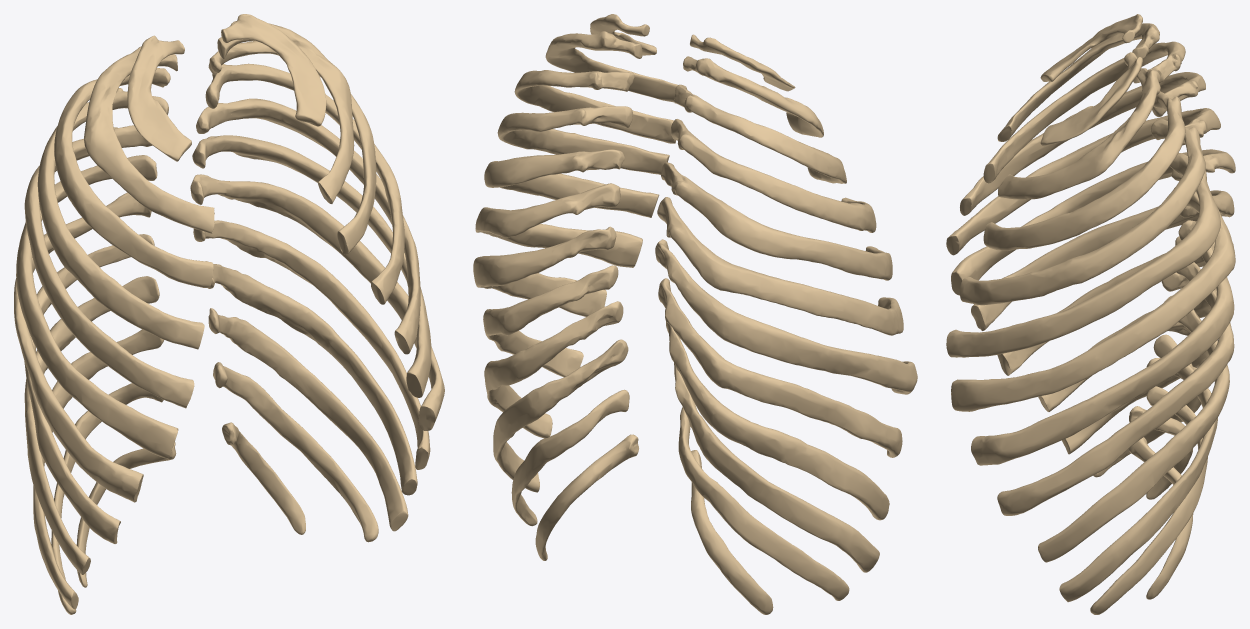
File: explorar-ribs.glb
3 views of the same model, side by side, from view 1: azimuth 30°, elevation 25°; view 2: azimuth 150°, elevation 25°; view 3: azimuth 270°, elevation 25° (orthographic). The views are drawn at different scales.
Parts seen in each view (by area): view 1: ribs__verdaderas, ribs__falsas, ribs__flotantes, ribs__cuerpo; view 2: ribs__verdaderas, ribs__falsas, ribs__flotantes, ribs__cuerpo; view 3: ribs__verdaderas, ribs__falsas, ribs__cuerpo, ribs__flotantes.
Boxes of the visible parts, bbox=[...] form: ribs__verdaderas: bbox=[14, 14, 444, 502]; ribs__falsas: bbox=[24, 220, 430, 609]; ribs__flotantes: bbox=[51, 362, 378, 614]; ribs__cuerpo: bbox=[225, 98, 420, 354]; ribs__verdaderas: bbox=[473, 14, 917, 394]; ribs__falsas: bbox=[483, 265, 902, 572]; ribs__flotantes: bbox=[511, 389, 849, 614]; ribs__cuerpo: bbox=[484, 153, 659, 217]; ribs__verdaderas: bbox=[946, 14, 1235, 465]; ribs__falsas: bbox=[997, 236, 1234, 602]; ribs__cuerpo: bbox=[946, 176, 1220, 357]; ribs__flotantes: bbox=[1090, 358, 1207, 614].
Bounding box in the file's own units: 0.2732 × 0.3778 × 0.1932.
